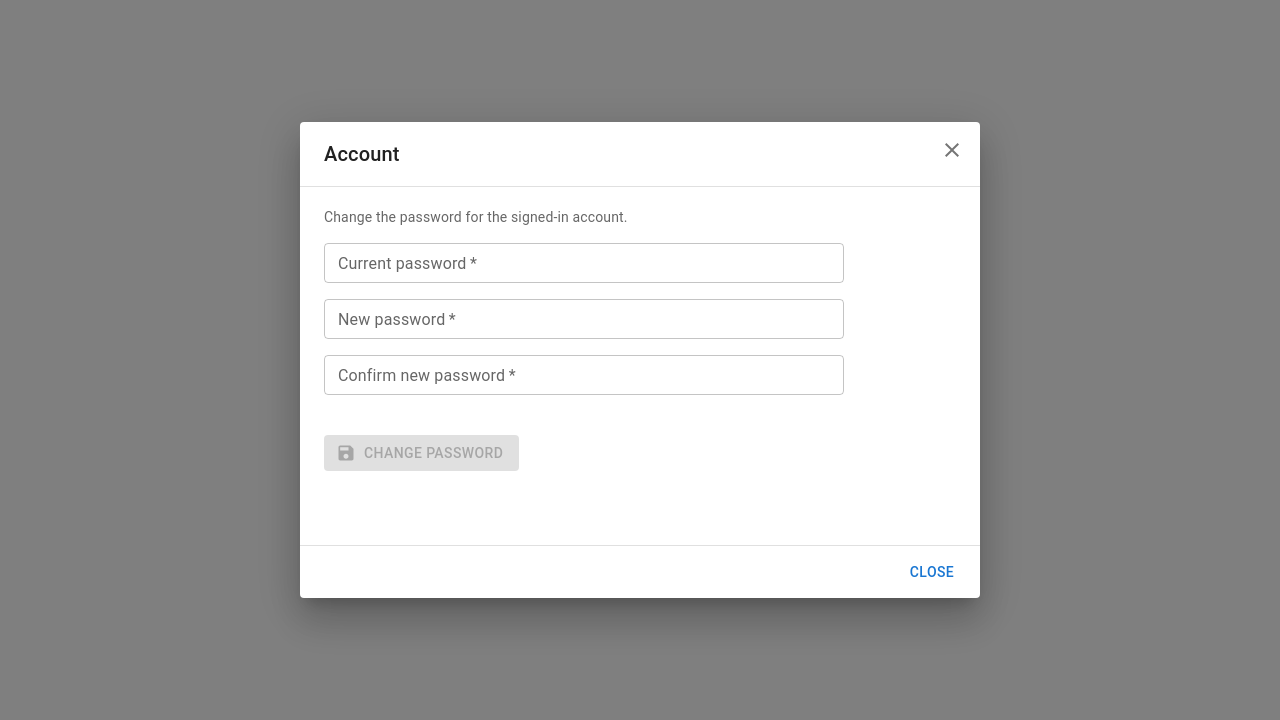
Test: lets every authenticated user rotate their password and installs the replacement session
Type "old-secret" into the password field labelled "Current password *" at [584, 263], box [324,243,844,283]
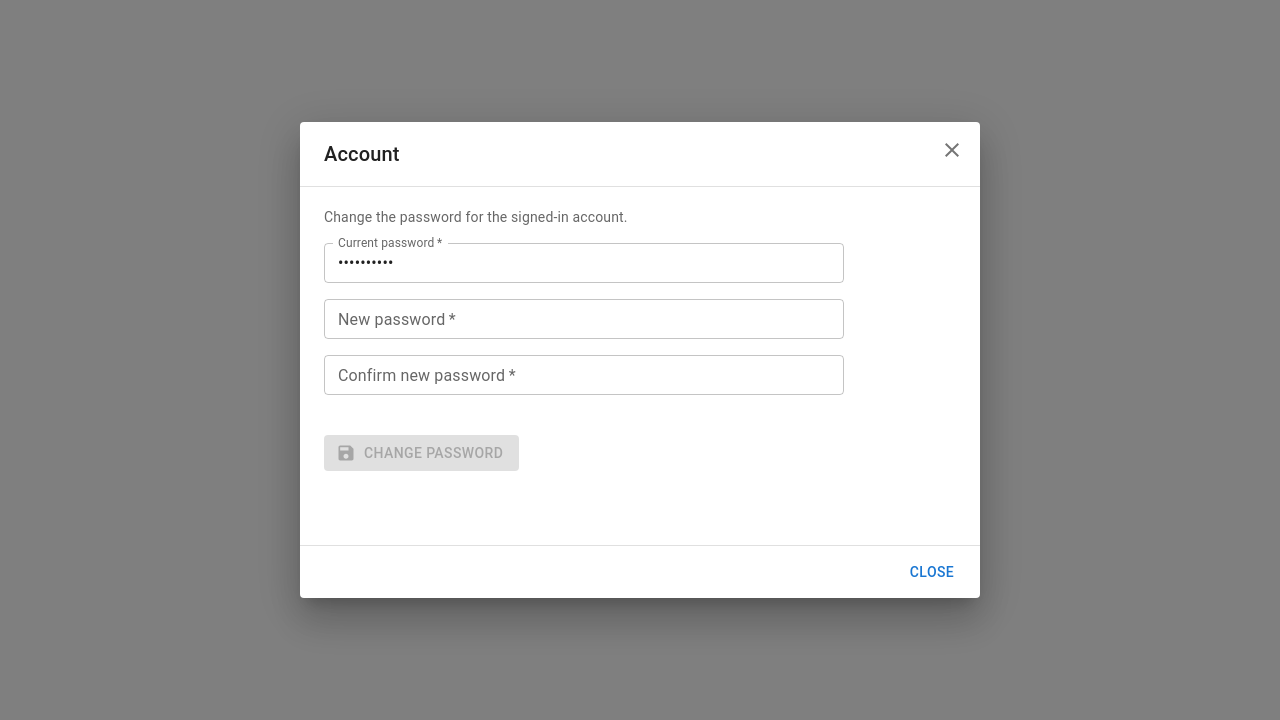
Type "new-secret" into the password field labelled "New password *" at [584, 319], box [324,299,844,339]
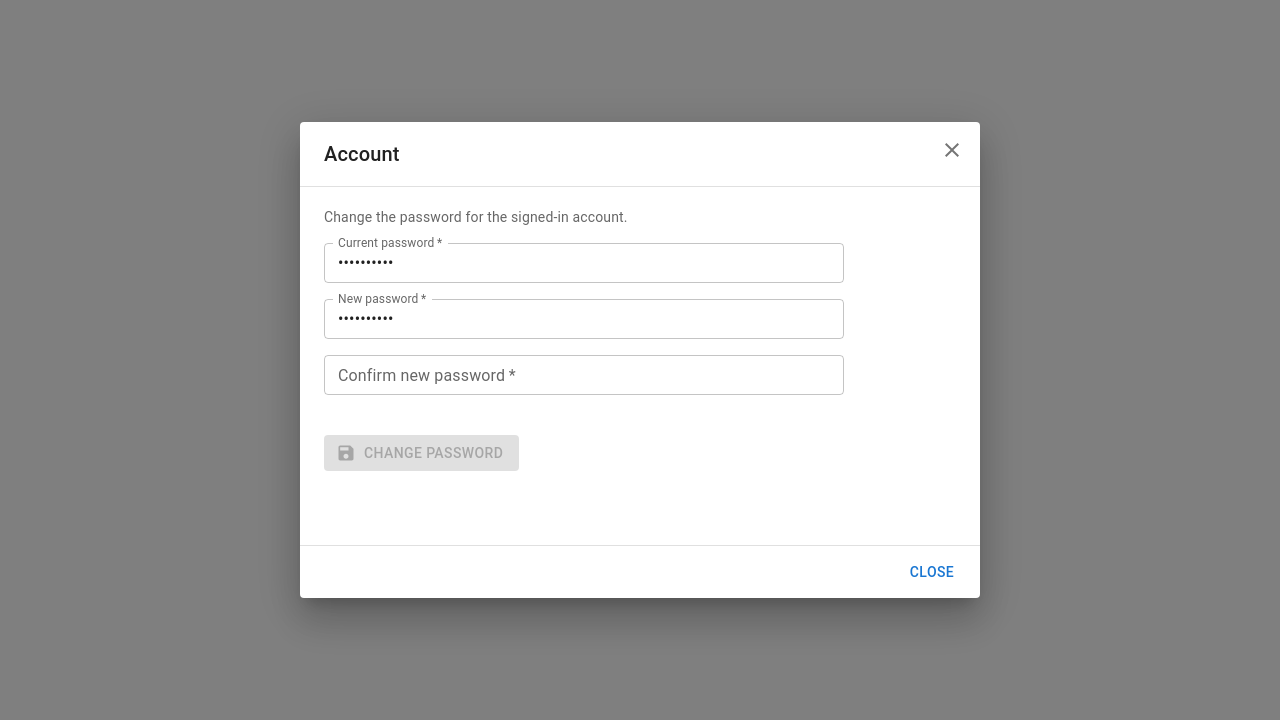
Type "new-secret" into the password field labelled "Confirm new password *" at [584, 375], box [324,355,844,395]
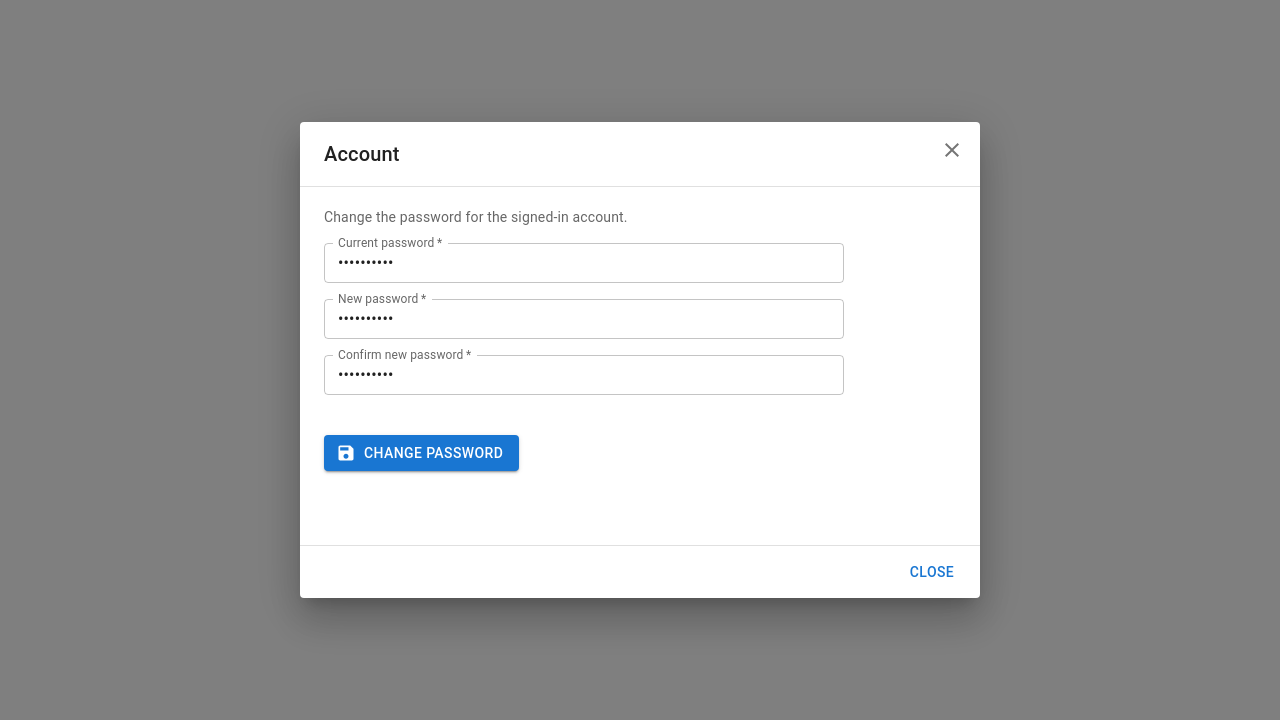
Click the button "Change password" at [422, 453], box [324,435,519,471]
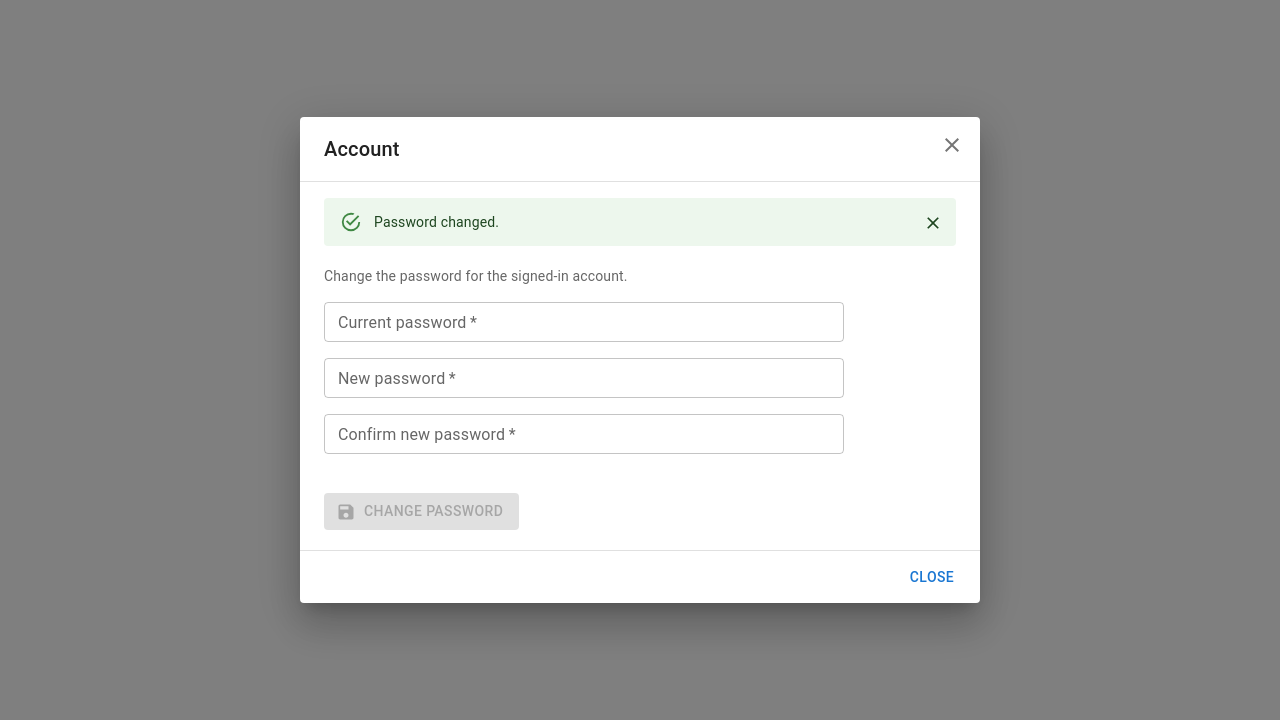
Result: the text "Password changed." is shown at [374,214,499,230]
